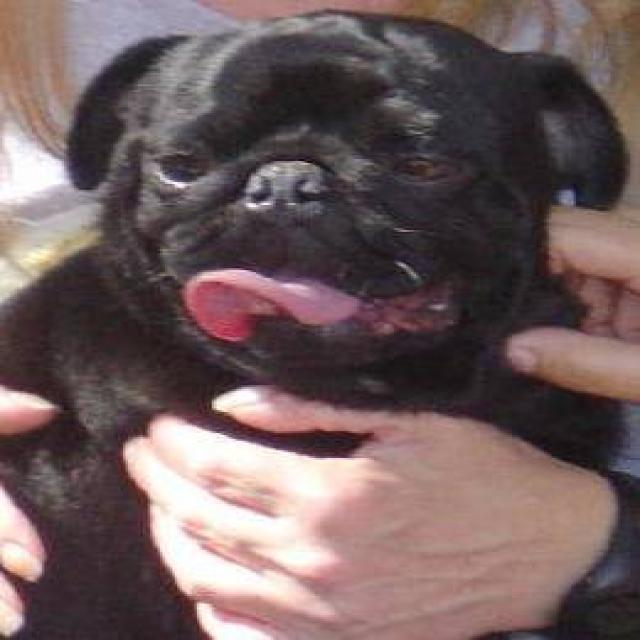dog: (0, 6, 638, 638)
